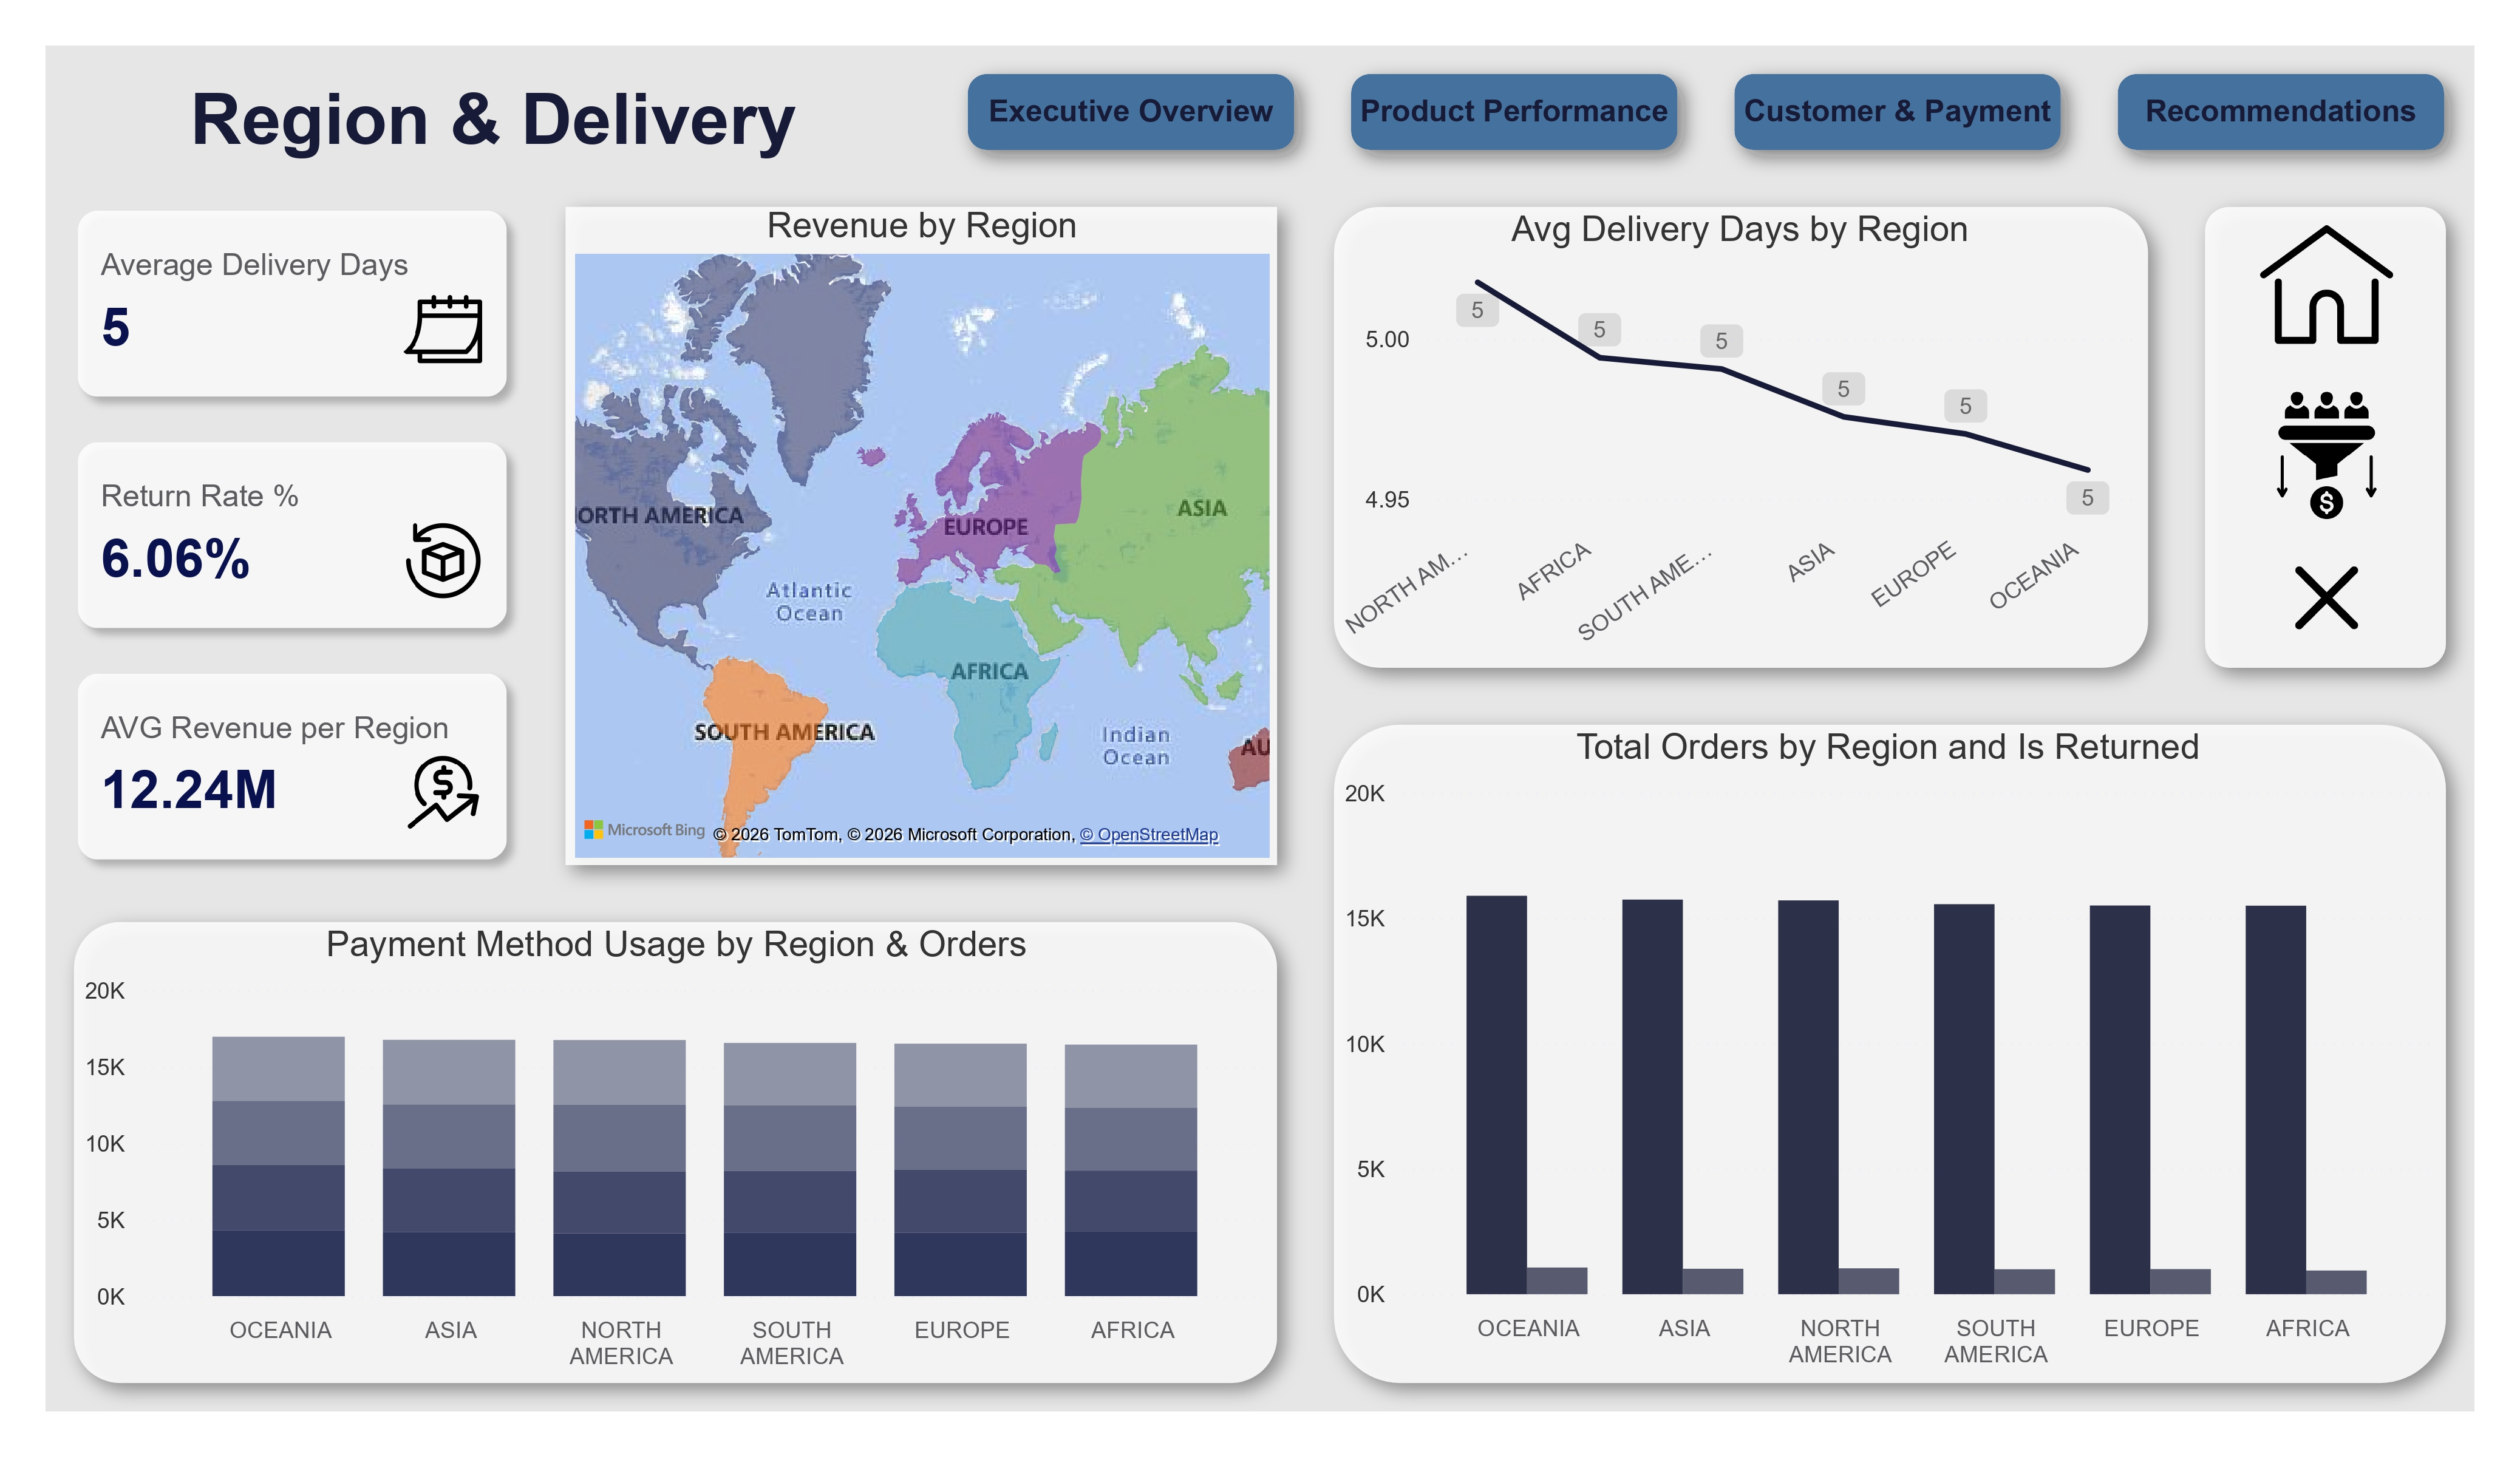

The dashboard page shown, as its layout file describes it:
{"tool":"powerbi","page":{"name":"Region & Delivery","canvas":[1280,720],"ordinal":3},"visuals":[{"type":"pageNavigator","box":[471.1,0,808.4,69.9],"z":0},{"type":"cardVisual","fields":{"Data":["fact_sales.Average Delivery Days","fact_sales.Return Rate %","fact_sales.Revenue per Region"]},"box":[0,70,260,376.7],"z":0,"group":"g2"},{"type":"shape","box":[1122.9,70,157.1,272.9],"z":0,"group":"g1"},{"type":"image","box":[181.9,124,53.7,50.9],"z":1000,"group":"g2"},{"type":"image","box":[1135.8,175.7,131.4,80],"z":1000,"group":"g1"},{"type":"shape","box":[663.5,343.2,616.2,377],"z":1000},{"type":"group","id":"g1","title":"Group 1","box":[1122.9,70,157.1,272.9],"z":2000},{"type":"image","box":[181.9,245.9,53.7,50.9],"z":2000,"group":"g2"},{"type":"image","box":[1135.8,253.2,131.6,75.7],"z":2000,"group":"g1"},{"type":"textbox","box":[0,12.9,471.8,52.9],"z":3000},{"type":"image","box":[1135.8,85.7,131.4,80],"z":3000,"group":"g1"},{"type":"image","box":[181.9,367.9,53.7,50.9],"z":3000,"group":"g2"},{"type":"shape","box":[0,447.3,663.5,273],"z":4000},{"type":"group","id":"g2","title":"Group 2","box":[0,70,260,376.7],"z":6000},{"type":"shape","box":[259.5,70.3,404.1,377],"z":7000},{"type":"shape","box":[663.5,70.3,459.5,273],"z":8000},{"type":"filledMap","title":"Revenue by Region","fields":{"Category":["dim_region.region_name"],"Series":["fact_sales.revenue"]},"box":[274.4,84.4,376,348.9],"z":10000},{"type":"lineChart","title":"Avg Delivery Days by Region","fields":{"Y":["fact_sales.Average Delivery Days"],"Category":["dim_region.region_name"]},"box":[679,86.4,428.4,242],"z":11000},{"type":"lineClusteredColumnComboChart","title":"Total Orders by Region and Is Returned","fields":{"Category":["dim_region.region_name"],"Y":["fact_sales.Total Orders"],"Series":["fact_sales.is_returned"]},"box":[679,359.3,584,345.7],"z":12000},{"type":"columnChart","title":"Payment Method Usage by Region & Orders","fields":{"Y":["fact_sales.Total Orders"],"Series":["dim_payment.payment_method"],"Category":["dim_region.region_name"]},"box":[15.1,462.8,634.9,243],"z":13000}]}

Visuals, with their boxes on the page's 1280x720 design canvas (x1, y1, x2, y2). These are canvas units, not pixel positions in the 2520x1457 screenshot, which may show the page scaled, cropped or inside an application window:
pageNavigator: [471,0,1280,70]
cardVisual - fact_sales.Average Delivery Days x fact_sales.Return Rate %: [0,70,260,447]
shape: [1123,70,1280,343]
image: [182,124,236,175]
image: [1136,176,1267,256]
shape: [664,343,1280,720]
"Group 1" group: [1123,70,1280,343]
image: [182,246,236,297]
image: [1136,253,1267,329]
textbox: [0,13,472,66]
image: [1136,86,1267,166]
image: [182,368,236,419]
shape: [0,447,664,720]
"Group 2" group: [0,70,260,447]
shape: [260,70,664,447]
shape: [664,70,1123,343]
"Revenue by Region" filledMap: [274,84,650,433]
"Avg Delivery Days by Region" lineChart: [679,86,1107,328]
"Total Orders by Region and Is Returned" lineClusteredColumnComboChart: [679,359,1263,705]
"Payment Method Usage by Region & Orders" columnChart: [15,463,650,706]
